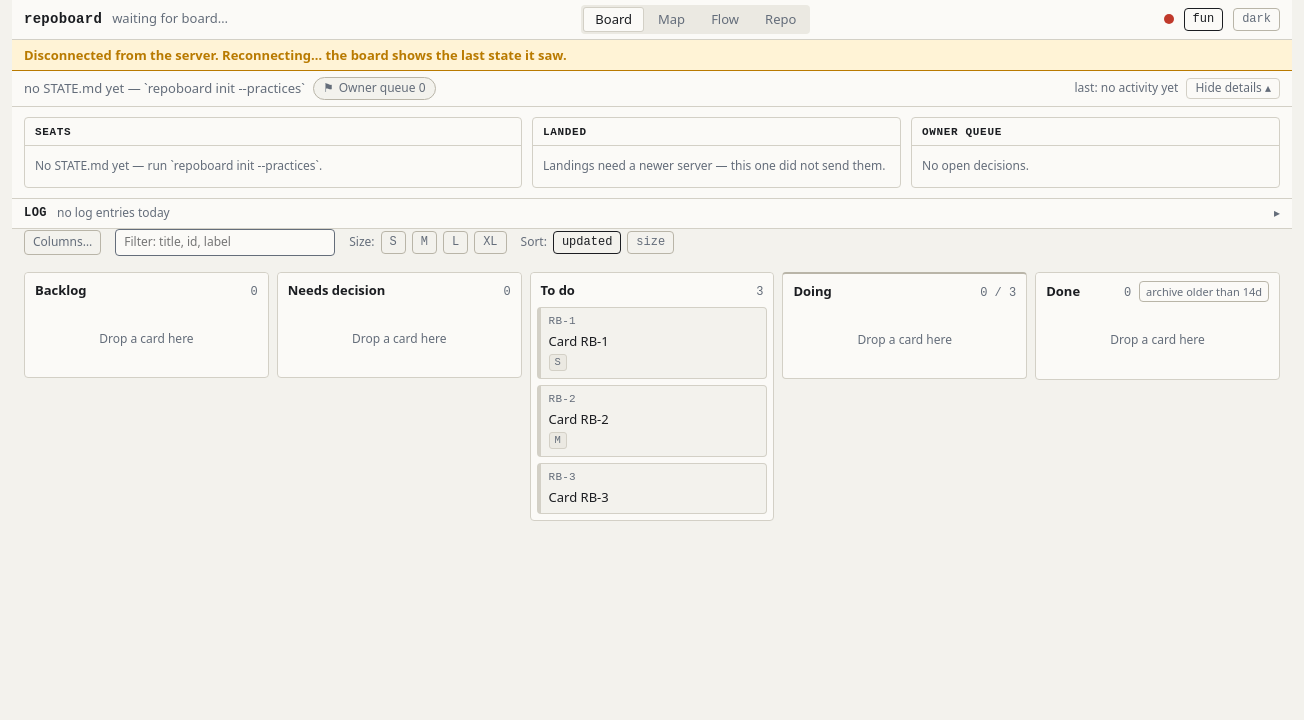
Test case: BoardTools › toggling a size filters the board and shows "n of m cards"; "all" clears it
The width and height of the screenshot is (1304, 720).
Check: the text "of 3 cards" is not shown
Click the button with test id "size-filter-S": coordinates (393, 242) x1=380 y1=231 x2=406 y2=254
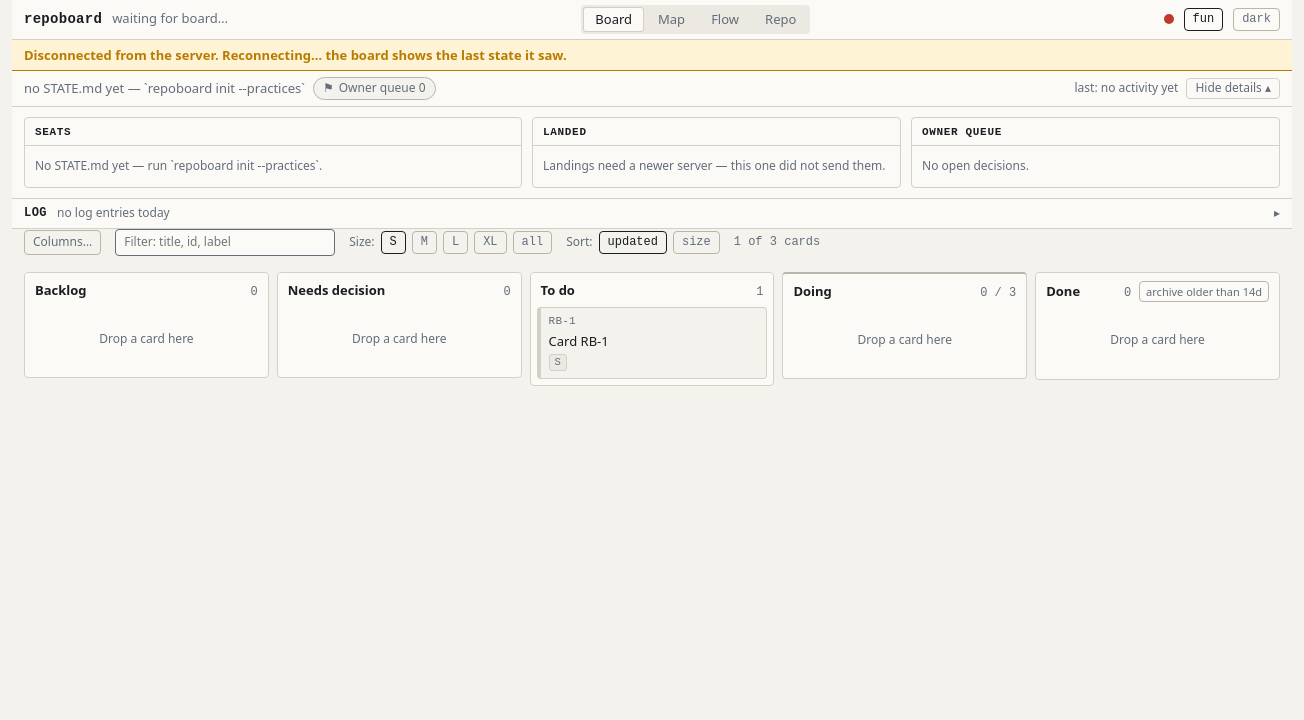
Check: the text "1 of 3 cards" is shown, box x1=734 y1=234 x2=820 y2=251
Check: the button with test id "card-RB-2" is gone
Check: the button with test id "card-RB-3" is gone
Click the button with test id "size-filter-all": coordinates (532, 242) x1=513 y1=231 x2=552 y2=254
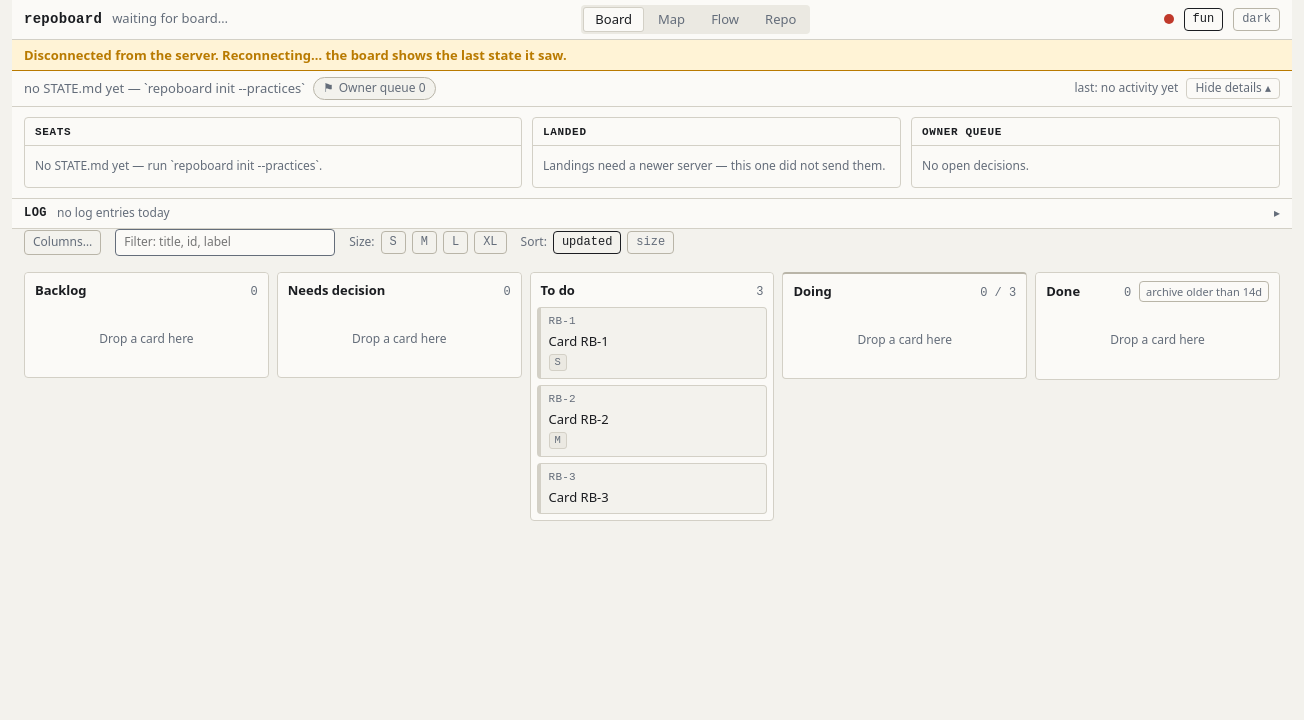
Check: the button with test id "size-filter-all" is gone
Check: the button with test id "card-RB-2" is shown, box x1=537 y1=384 x2=767 y2=456
Check: the button with test id "card-RB-3" is shown, box x1=537 y1=462 x2=767 y2=514
